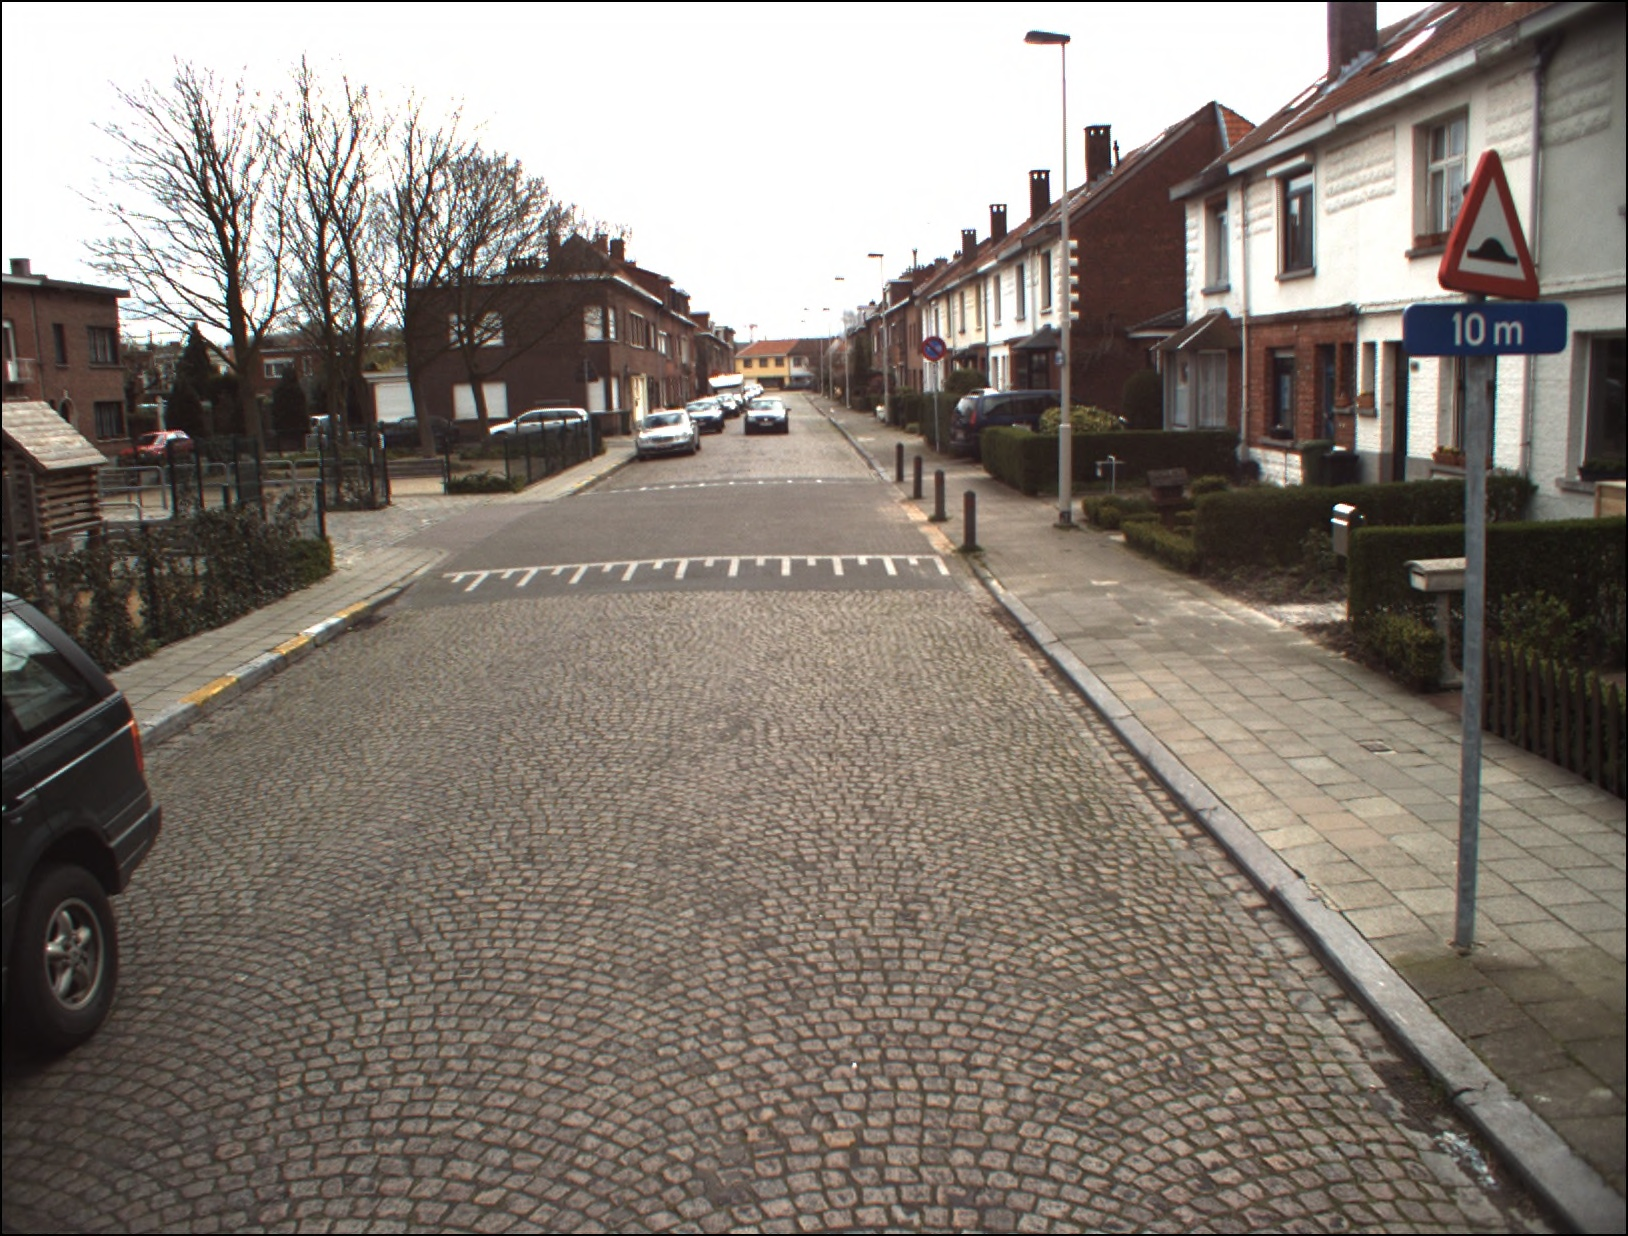speedbump: (1440, 144, 1548, 300)
